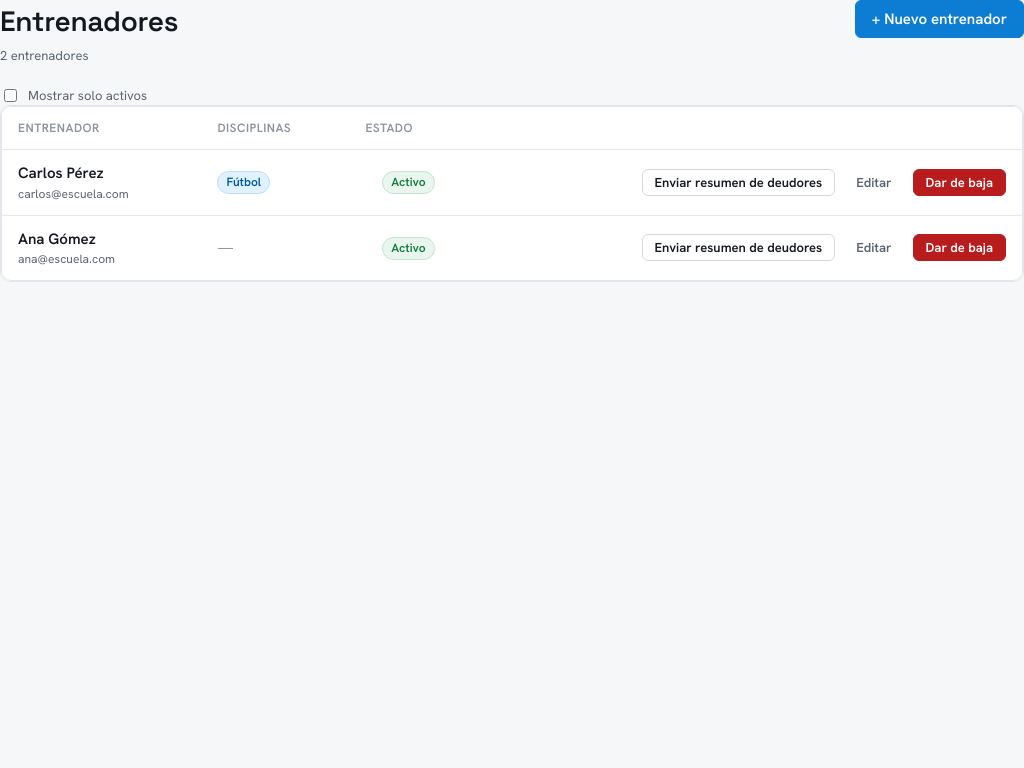
Test: Entrenadores — alta/edición + resumen de deudores (ADMIN) › alta: 409 con mención de CI marca el campo CI y guía a editar
Check: the text "Carlos Pérez" is shown, box x1=18 y1=163 x2=104 y2=183
Click the button "+ Nuevo entrenador".
click(939, 19)  # box x1=855 y1=0 x2=1023 y2=38
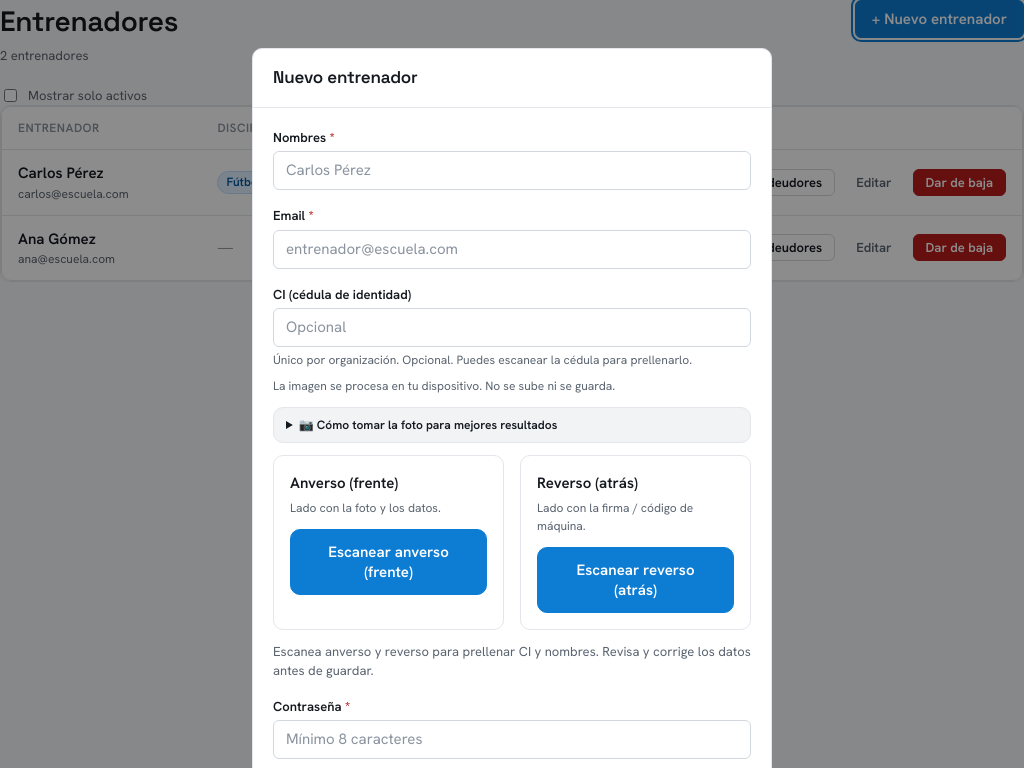
Type "Dup Coach" into the field labelled "Nombres *".
click(512, 170); type("Dup Coach")  # box x1=273 y1=151 x2=751 y2=190
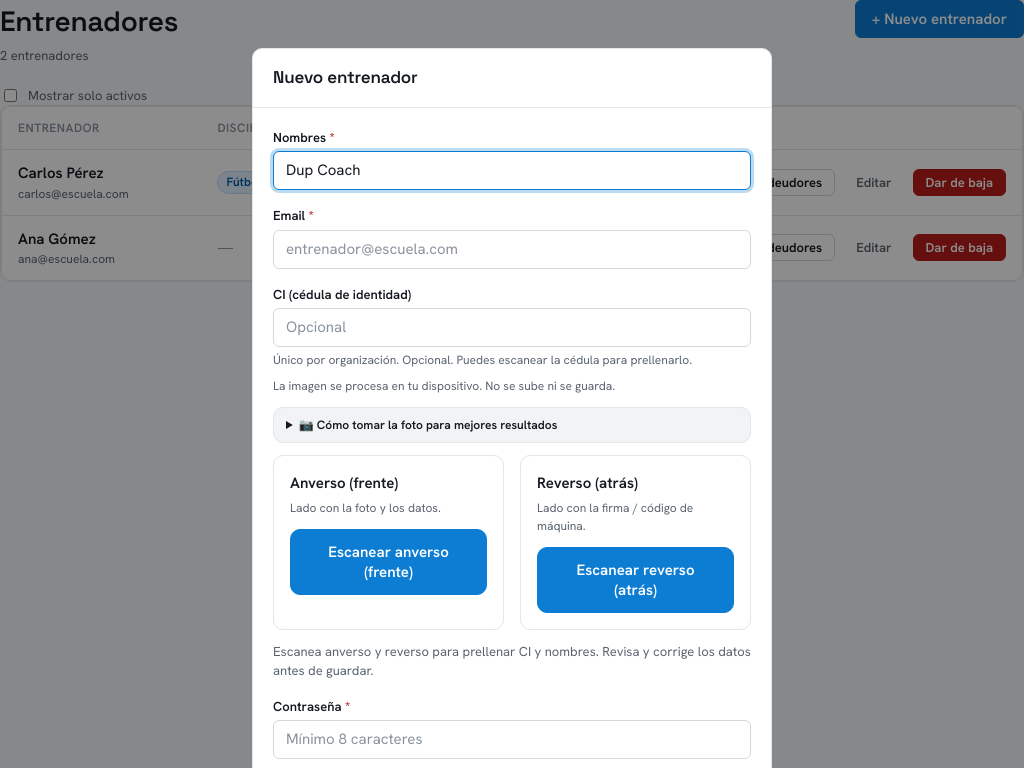
Type "dup@escuela.com" into the field labelled "Email *".
click(512, 249); type("dup@escuela.com")  # box x1=273 y1=230 x2=751 y2=268
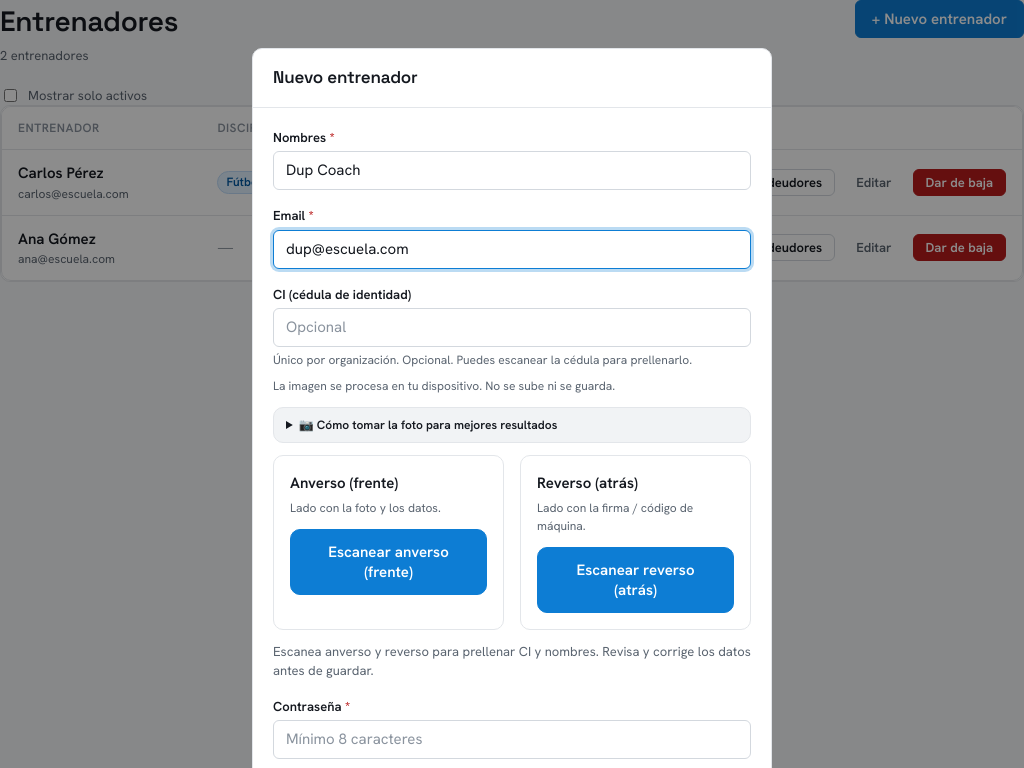
Type "1234567" into the field labelled "CI (cédula de identidad)".
click(512, 328); type("1234567")  # box x1=273 y1=308 x2=751 y2=347
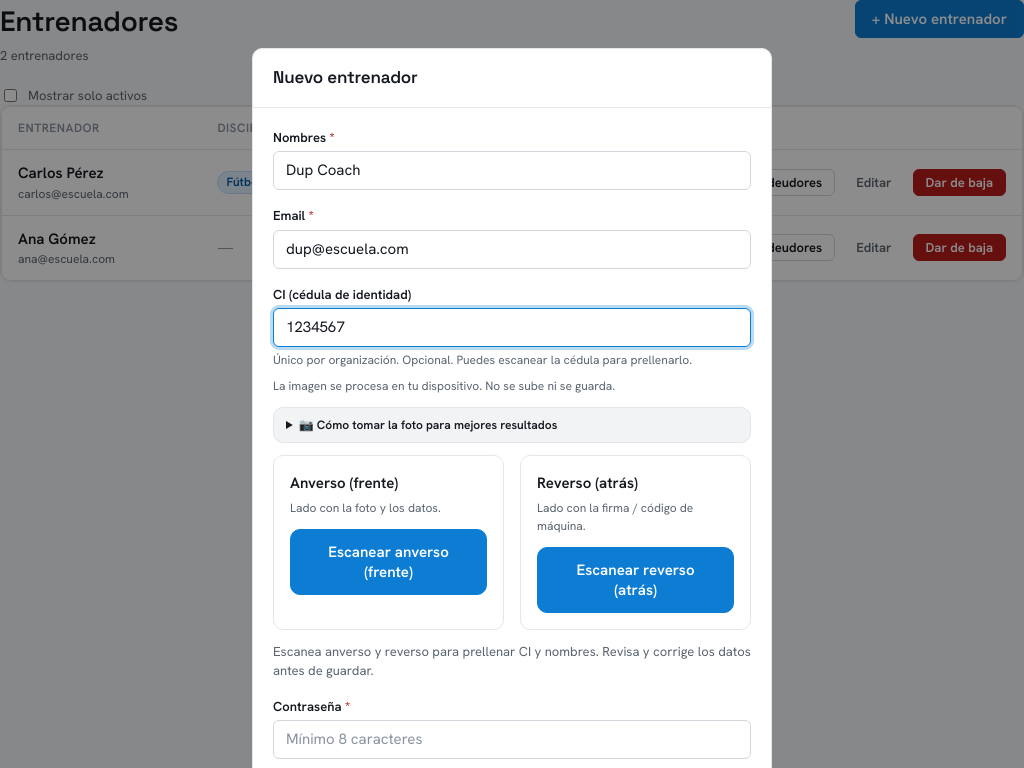
Type "secreto123" into the password field labelled "Contraseña *".
click(512, 740); type("secreto123")  # box x1=273 y1=720 x2=751 y2=759
(page scrolled)
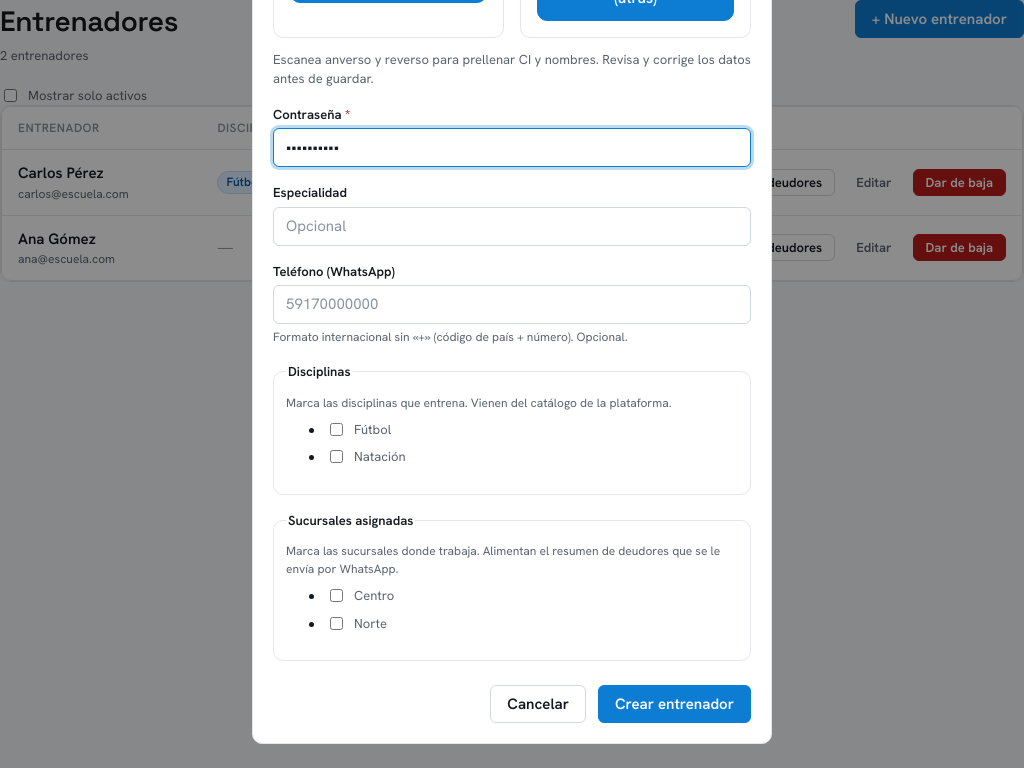
Click the button "Crear entrenador".
click(674, 704)  # box x1=598 y1=685 x2=751 y2=723
(page scrolled)
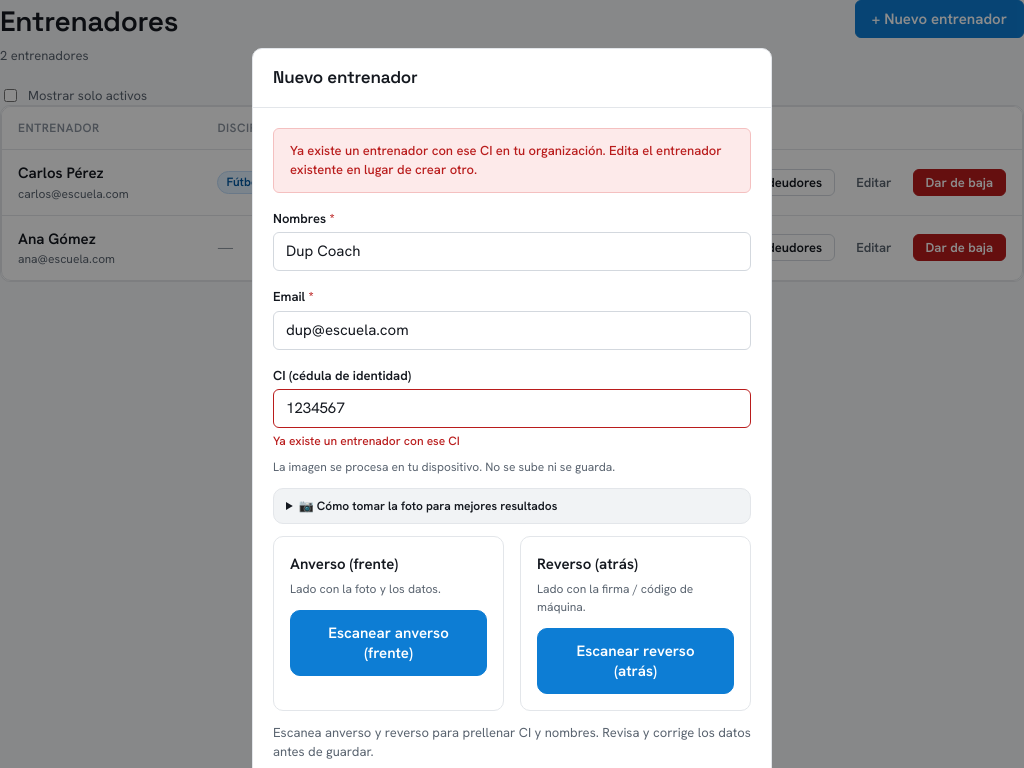
Check: the text "Ya existe un entrenador con ese CI" is shown, box x1=273 y1=433 x2=460 y2=449
Check: the text "Edita el entrenador existente" is shown, box x1=290 y1=142 x2=722 y2=178
